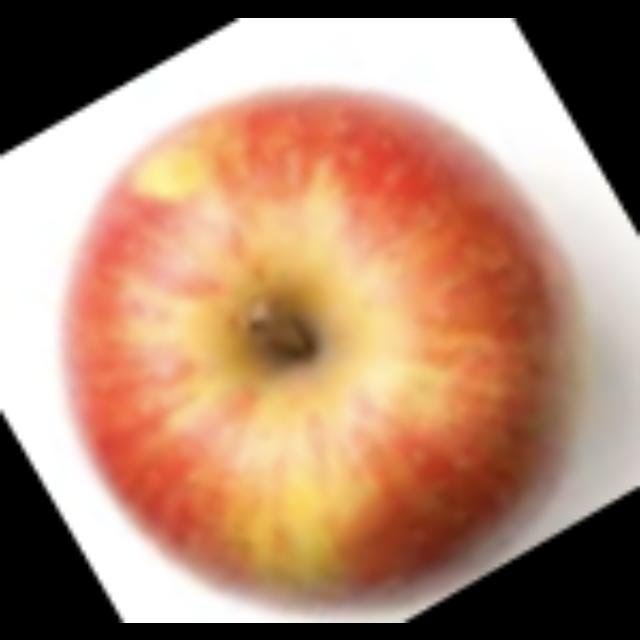Apel Segar: (61, 80, 571, 604)
